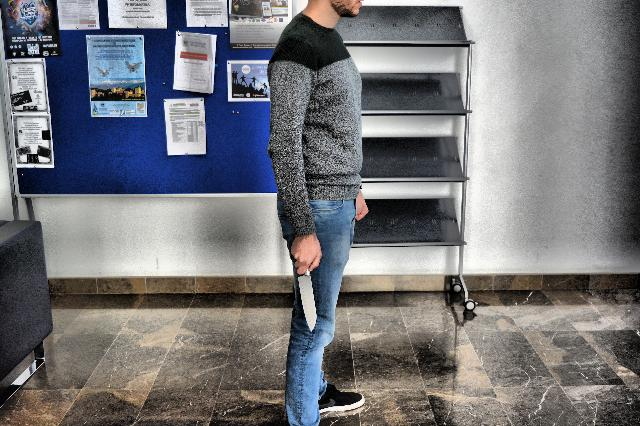knife: (294, 263, 318, 336)
